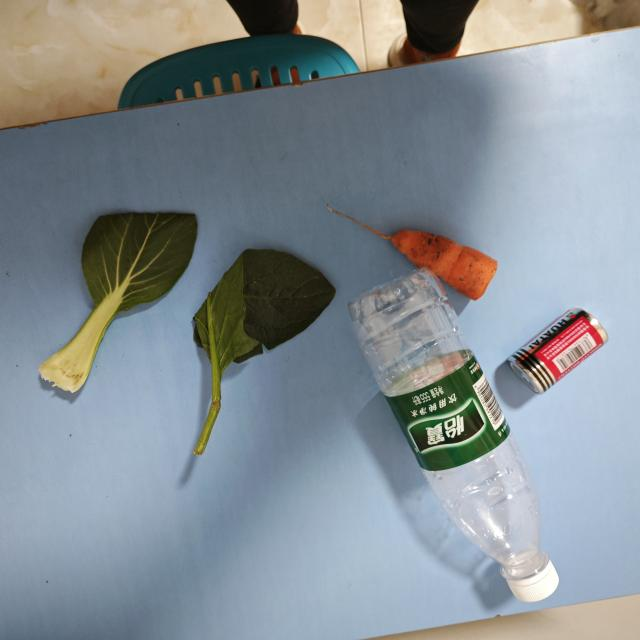-Hazardous waste - battery-: (507, 307, 608, 394)
-Kitchen waste - carrot-: (326, 206, 500, 300)
-Kitchen waste - vegetable roots and leaves-: (39, 211, 198, 395), (193, 254, 337, 453)
-Recyclables - plastic bottle-: (348, 267, 559, 603)
